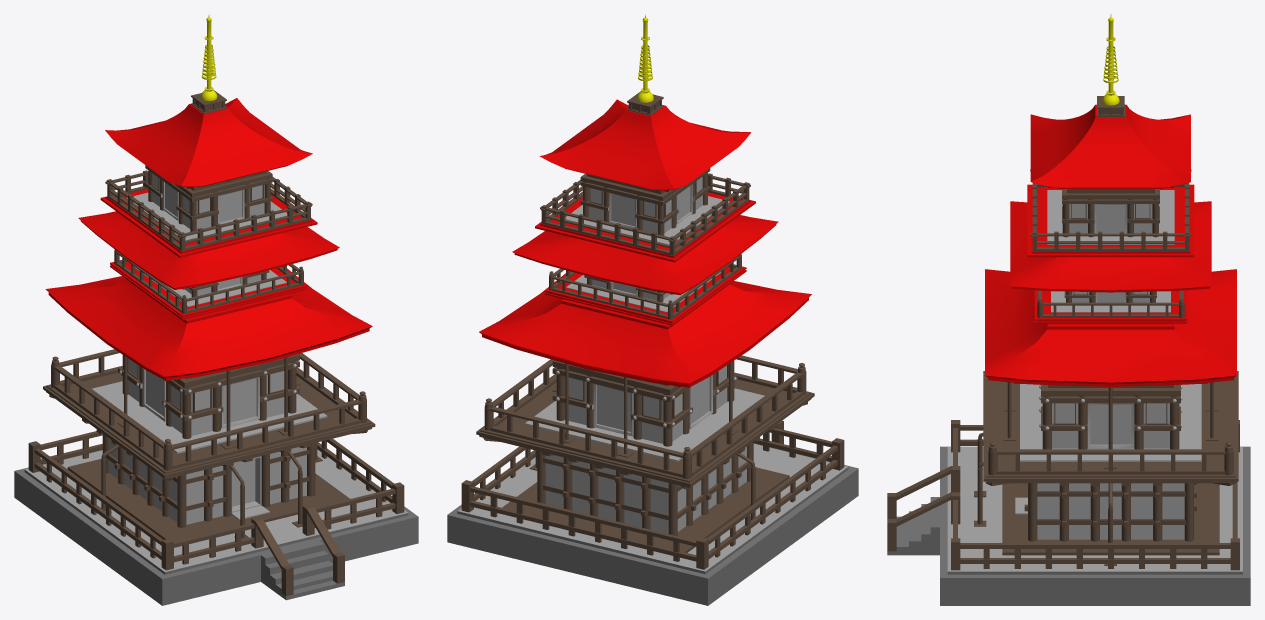
The model's file is Japanese_house_03.fbx.
The picture shows the model from 3 angles, left to right: view 1: azimuth 30°, elevation 25°; view 2: azimuth 150°, elevation 25°; view 3: azimuth 270°, elevation 25°; orthographic projection. The views are drawn at different scales.
Parts seen in each view (by area): view 1: Japanese_house_03; view 2: Japanese_house_03; view 3: Japanese_house_03.
Part boxes in pixels (x1,y1,x2,y2): Japanese_house_03: (14,14,418,605); Japanese_house_03: (447,14,858,605); Japanese_house_03: (887,14,1250,605).
Bounding box in the file's own units: 180 × 336 × 211.
